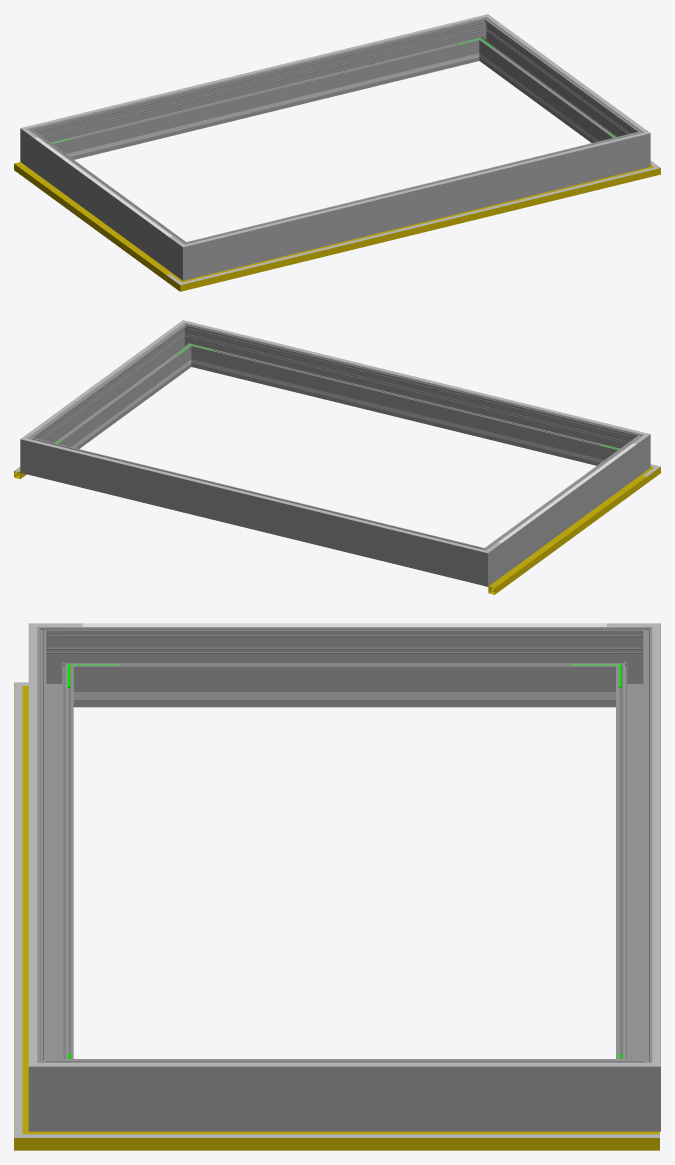
The picture shows the model from 3 angles, top to bottom: view 1: azimuth 30°, elevation 25°; view 2: azimuth 150°, elevation 25°; view 3: azimuth 270°, elevation 25°; orthographic projection. The views are drawn at different scales.
Visible parts, largest first — view 1: 3DGeom-276, 3DGeom-298, 3DGeom-297, 3DGeom-268, 3DGeom-11, 3DGeom-244, 3DGeom-6, 3DGeom-270, 3DGeom-20, 3DGeom-316, 3DGeom-304, 3DGeom-290 (+6 smaller); view 2: 3DGeom-298, 3DGeom-276, 3DGeom-297, 3DGeom-268, 3DGeom-239, 3DGeom-6, 3DGeom-278, 3DGeom-304, 3DGeom-316, 3DGeom-284, 3DGeom-290, 3DGeom-270 (+4 smaller); view 3: 3DGeom-268, 3DGeom-297, 3DGeom-276, 3DGeom-298, 3DGeom-16, 3DGeom-316, 3DGeom-290, 3DGeom-284, 3DGeom-20, 3DGeom-304, 3DGeom-232, 3DGeom-11 (+6 smaller).
Boxes of the visible parts, box(x1,y1,x2,y2) form: 3DGeom-276: box(46, 21, 475, 159); 3DGeom-298: box(202, 136, 626, 274); 3DGeom-297: box(481, 25, 632, 142); 3DGeom-268: box(34, 136, 176, 270); 3DGeom-11: box(201, 171, 636, 285); 3DGeom-244: box(75, 59, 456, 155); 3DGeom-6: box(14, 162, 172, 281); 3DGeom-270: box(169, 235, 206, 280); 3DGeom-20: box(202, 172, 636, 279); 3DGeom-316: box(205, 137, 625, 241); 3DGeom-304: box(45, 20, 465, 123); 3DGeom-290: box(622, 124, 650, 172); 3DGeom-298: box(195, 327, 624, 465); 3DGeom-276: box(44, 442, 468, 580); 3DGeom-297: box(38, 331, 189, 448); 3DGeom-268: box(494, 442, 636, 576); 3DGeom-239: box(214, 365, 595, 461); 3DGeom-6: box(484, 475, 646, 594); 3DGeom-278: box(464, 541, 501, 586); 3DGeom-304: box(45, 443, 465, 547); 3DGeom-316: box(205, 326, 625, 429); 3DGeom-284: box(20, 430, 48, 478); 3DGeom-290: box(173, 323, 204, 368); 3DGeom-270: box(615, 430, 650, 477); 3DGeom-268: box(82, 627, 606, 707); 3DGeom-297: box(82, 1059, 606, 1131); 3DGeom-276: box(616, 646, 660, 1058); 3DGeom-298: box(37, 646, 73, 1058); 3DGeom-16: box(68, 1131, 659, 1150); 3DGeom-316: box(28, 646, 37, 1043); 3DGeom-290: box(28, 1043, 82, 1131); 3DGeom-284: box(607, 1043, 660, 1131); 3DGeom-20: box(14, 705, 22, 1114); 3DGeom-304: box(652, 646, 660, 1043); 3DGeom-232: box(125, 692, 563, 699); 3DGeom-11: box(14, 705, 28, 1114).
Bounding box in the file's own units: 3.05 × 0.2434 × 1.83.
